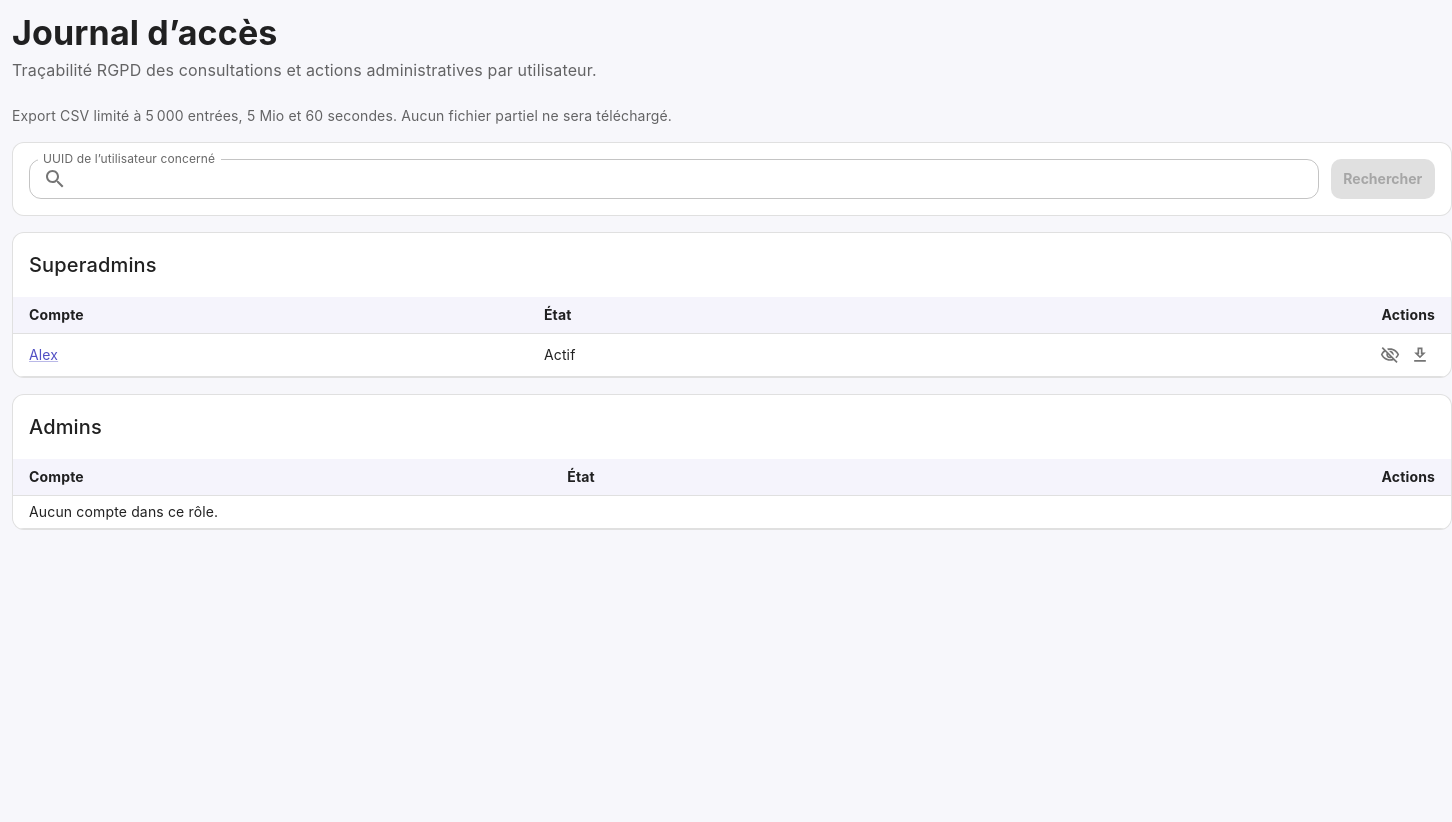
Test case: access journal administrator directory › cancels an export at the deadline without producing a partial file
Click the button named "Exporter le journal de Alex en CSV" at (1420, 355), box top-left (1405, 340), bottom-right (1435, 370)
Wait 60000 ms
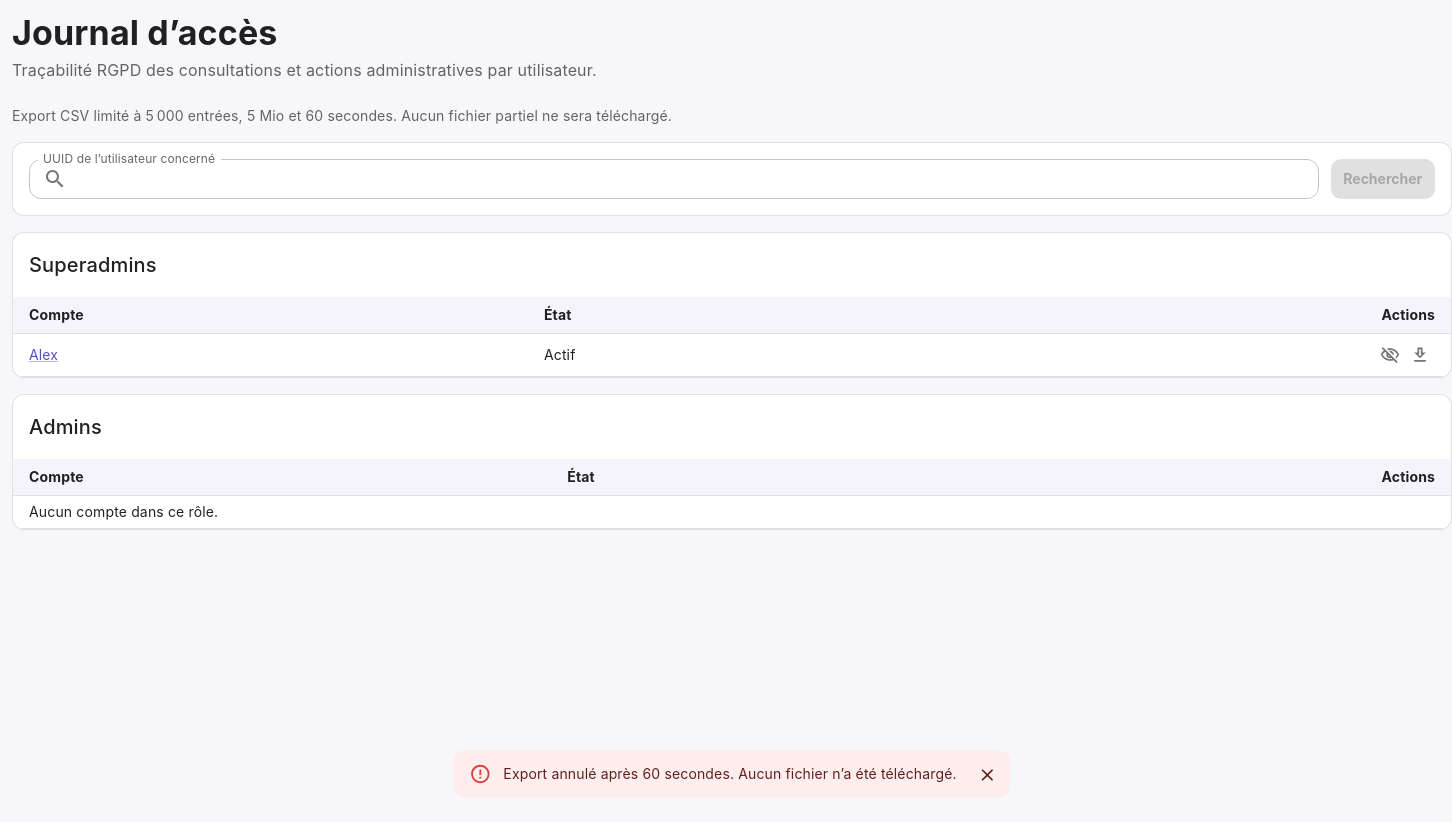
Now the text "Export annulé après 60 secondes. Aucun fichier n’a été téléchargé." is shown, box top-left (503, 765), bottom-right (957, 782)
